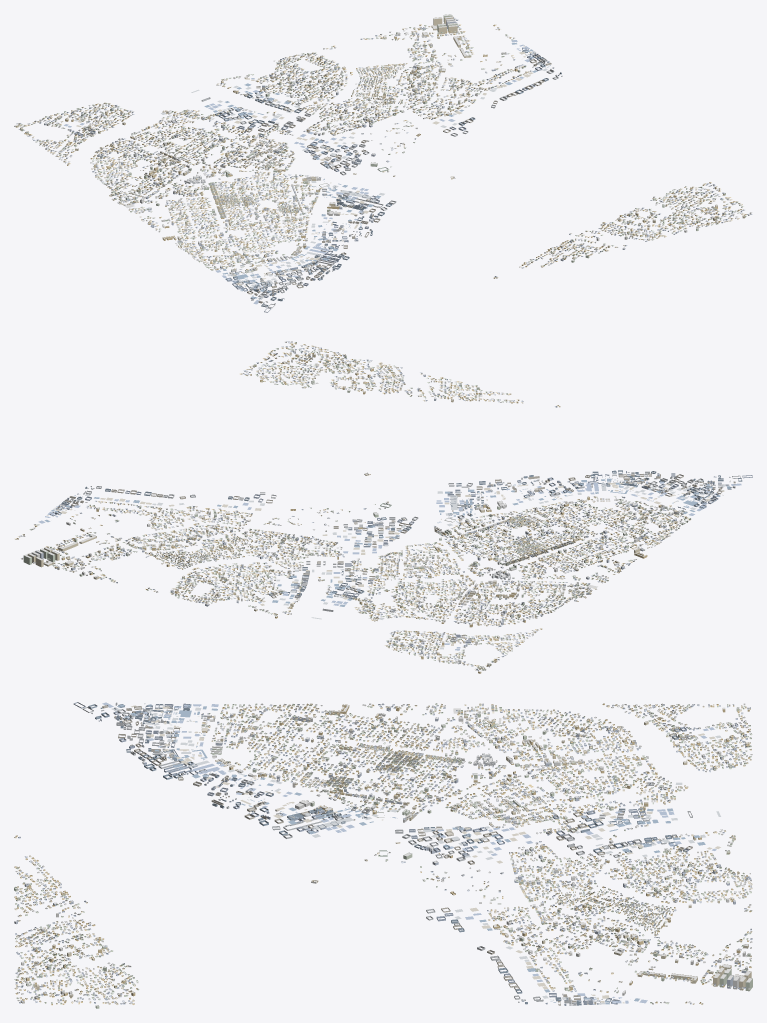
3 renders of one model, top to bottom at view 1: azimuth 30°, elevation 25°; view 2: azimuth 150°, elevation 25°; view 3: azimuth 270°, elevation 25°, orthographic. The views are drawn at different scales.
Visible parts, largest first — view 1: house, roof_zinc, apartment, factory, roof_flat; view 2: house, roof_zinc, apartment, factory, roof_flat; view 3: house, roof_zinc, apartment, factory, roof_flat.
Part boxes in pixels (x1=…): house: x1=14, y1=17, x2=751, y2=278; roof_zinc: x1=16, y1=17, x2=752, y2=304; apartment: x1=15, y1=14, x2=745, y2=276; factory: x1=74, y1=47, x2=562, y2=312; roof_flat: x1=17, y1=14, x2=744, y2=276; house: x1=15, y1=341, x2=691, y2=670; roof_zinc: x1=14, y1=341, x2=741, y2=670; apartment: x1=23, y1=346, x2=686, y2=673; factory: x1=50, y1=470, x2=752, y2=643; roof_flat: x1=24, y1=345, x2=686, y2=672; house: x1=14, y1=703, x2=752, y2=1004; roof_zinc: x1=15, y1=702, x2=752, y2=1005; apartment: x1=14, y1=704, x2=752, y2=1008; factory: x1=73, y1=702, x2=693, y2=1005; roof_flat: x1=15, y1=704, x2=752, y2=1006.
Size of the model in its own units: 1.41e+08 by 1893775 by 1.45e+08.
